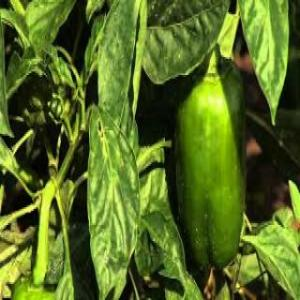bell_pepper: (175, 57, 254, 283)
